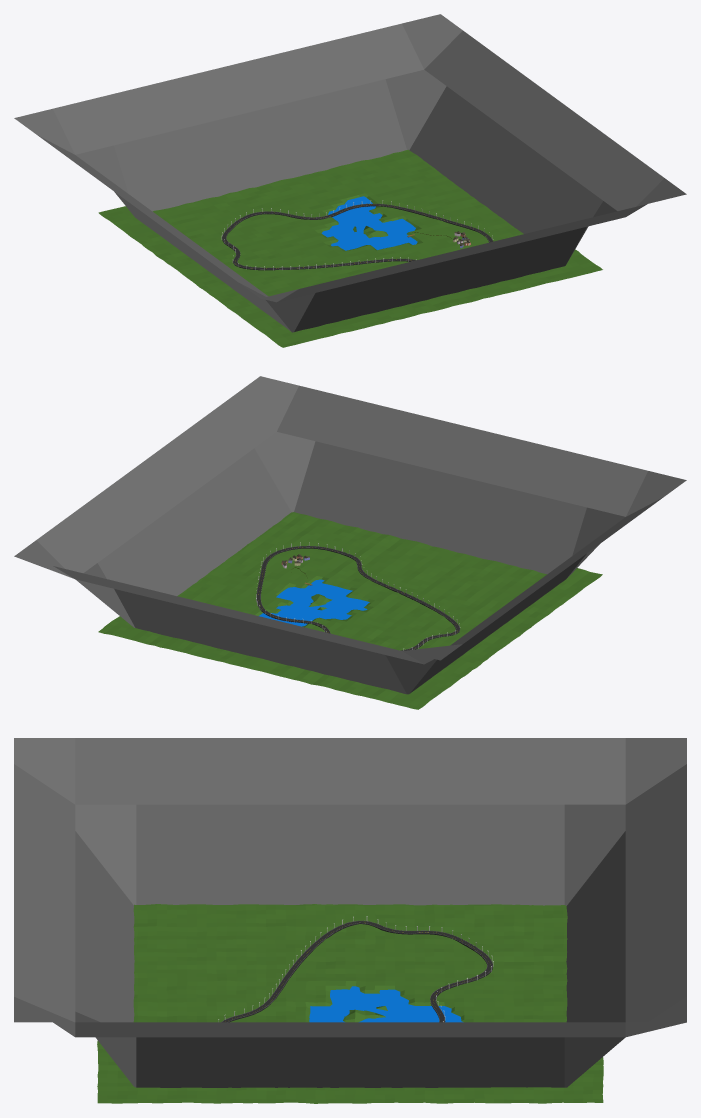
File: MapWithRoad.fbx
3 views of the same model, one above another, from view 1: azimuth 30°, elevation 25°; view 2: azimuth 150°, elevation 25°; view 3: azimuth 270°, elevation 25° (orthographic). The views are drawn at different scales.
Parts seen in each view (by area): view 1: Fjell, Earth, Water, Road; view 2: Fjell, Earth, Water, Road; view 3: Fjell, Earth, Water, Road.
Boxes of the visible parts, bbox=[...] form: Fjell: bbox=[14, 14, 686, 332]; Earth: bbox=[98, 149, 602, 347]; Water: bbox=[321, 196, 417, 250]; Road: bbox=[222, 204, 493, 270]; Fjell: bbox=[14, 376, 686, 694]; Earth: bbox=[98, 512, 602, 709]; Water: bbox=[259, 579, 369, 626]; Road: bbox=[256, 546, 459, 650]; Fjell: bbox=[14, 738, 686, 1087]; Earth: bbox=[97, 904, 603, 1103]; Water: bbox=[309, 986, 463, 1022]; Road: bbox=[222, 921, 492, 1022].
Bounding box in the file's own units: 228377 × 47842 × 228377.
